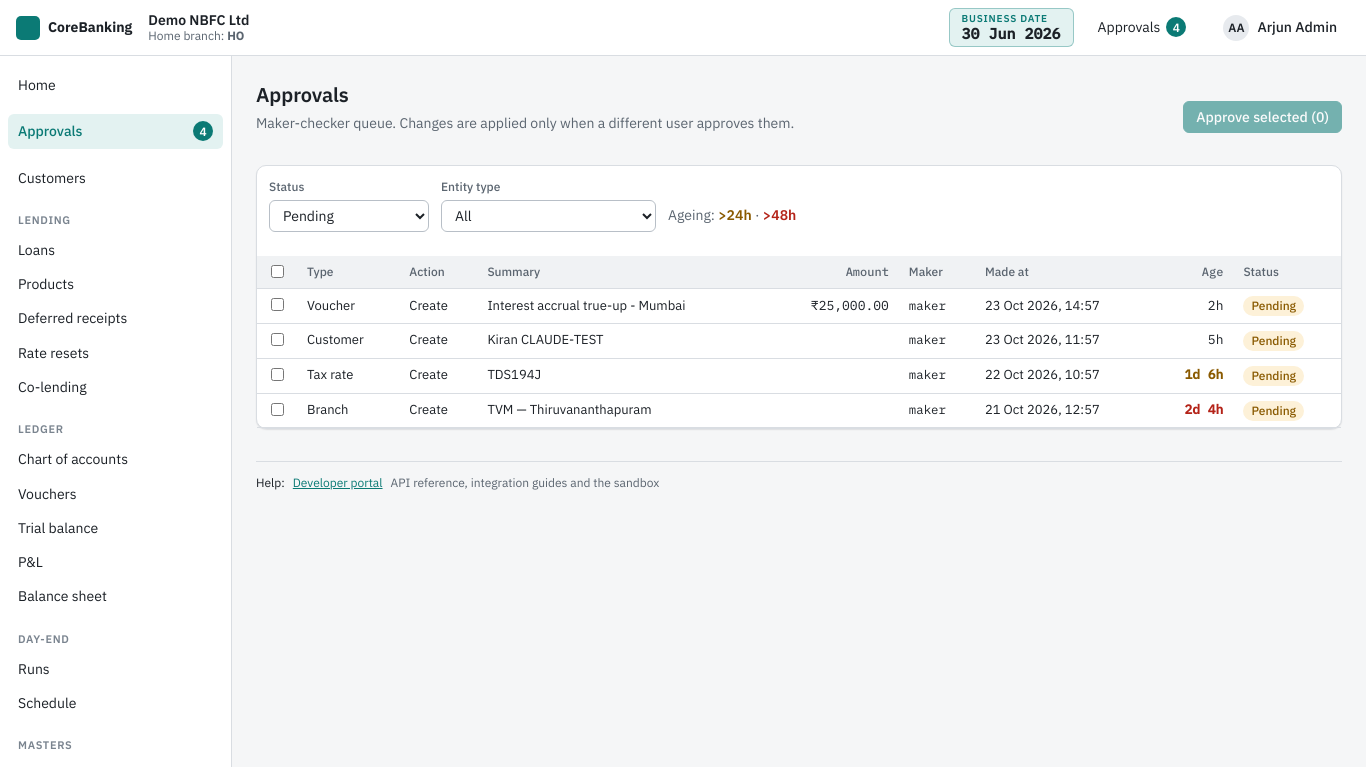
Test: approvals queue › opens another maker's request in a keyboard-closable drawer with Approve enabled
expect the heading "Approvals" is shown: met, box left=256, top=81, right=349, bottom=108
Click the row named "request by maker" at (799, 306), box left=257, top=289, right=1341, bottom=323
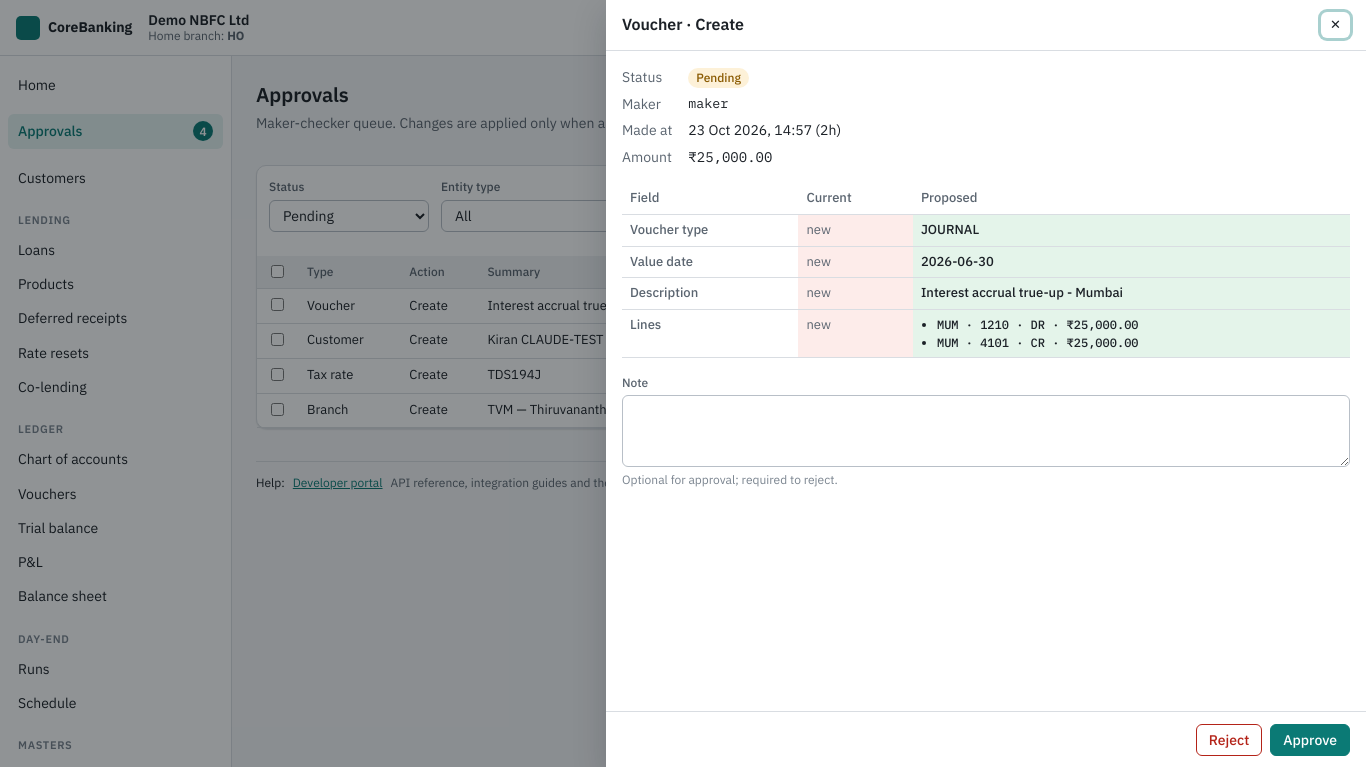
expect the button "Approve" is enabled: met, box left=1270, top=724, right=1350, bottom=756
Press Escape
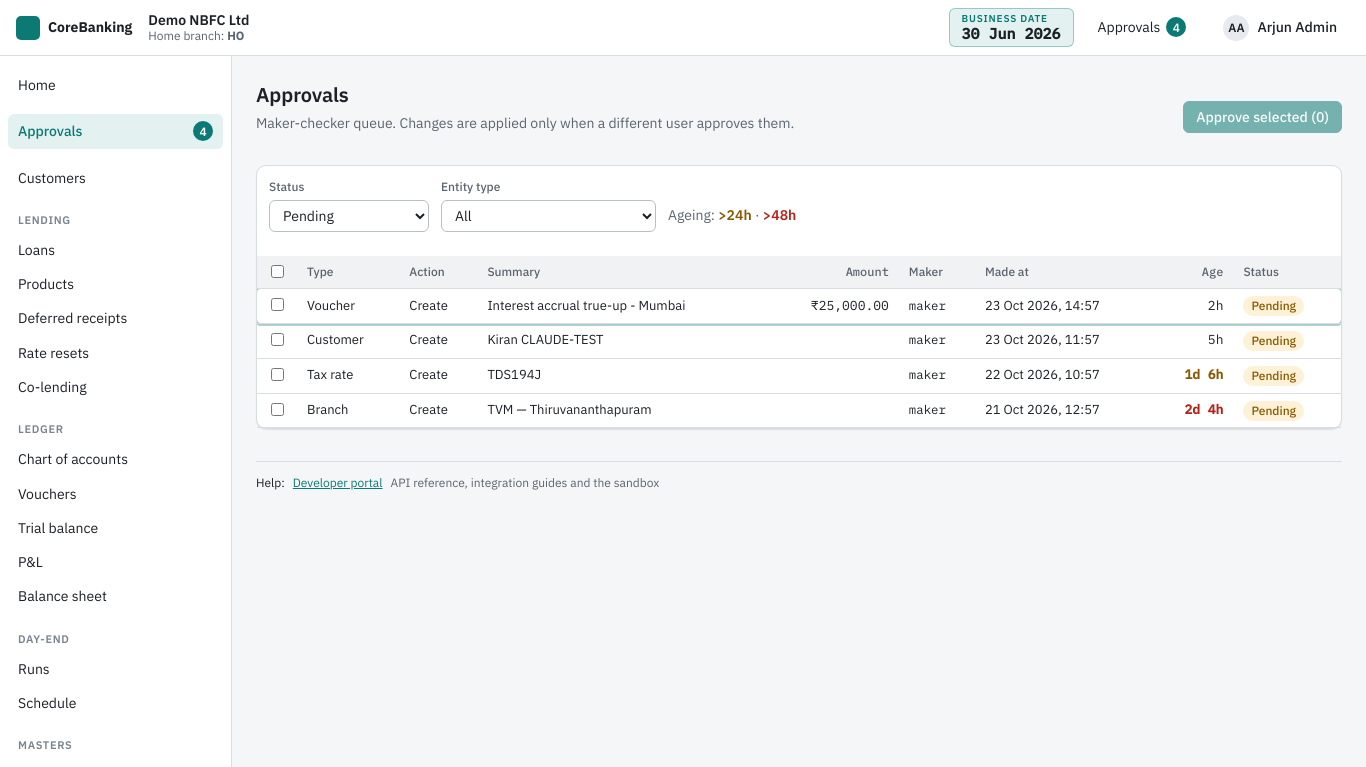
expect the dialog is gone: met
